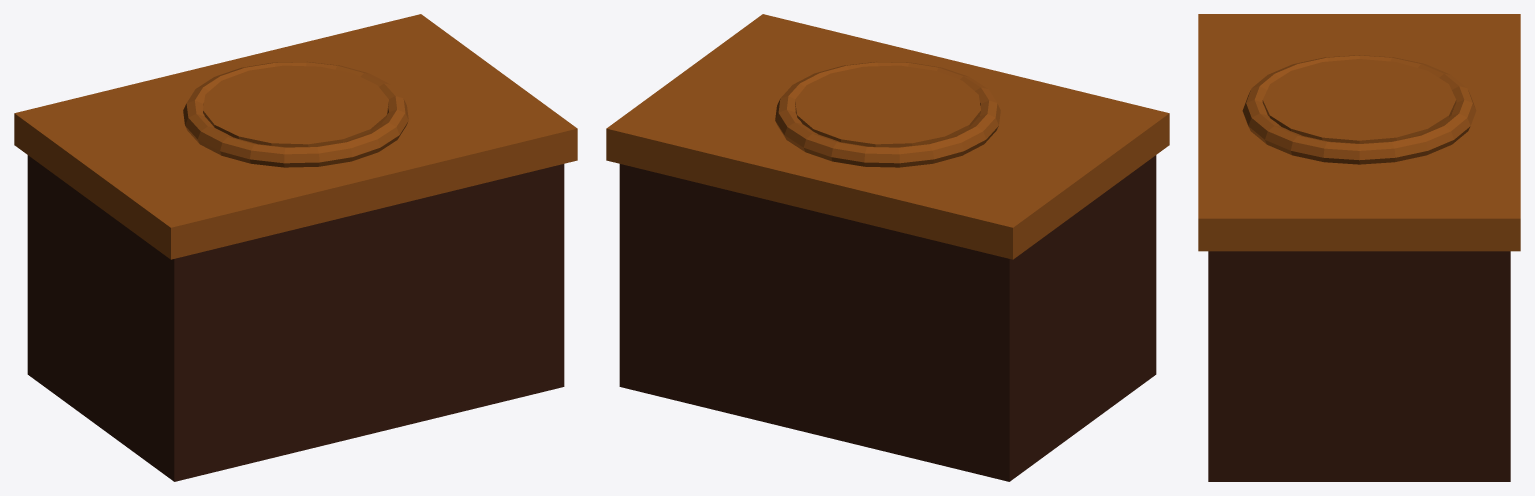
The picture shows the model from 3 angles, left to right: view 1: azimuth 30°, elevation 25°; view 2: azimuth 150°, elevation 25°; view 3: azimuth 270°, elevation 25°; orthographic projection. The views are drawn at different scales.
Visible parts, largest first — view 1: dark_wood, brass; view 2: dark_wood, brass; view 3: brass, dark_wood.
Boxes of the visible parts, x1,y1,x2,y2 form: dark_wood: (27,155,564,481); brass: (14,14,577,259); dark_wood: (619,155,1156,481); brass: (606,14,1169,259); brass: (1198,14,1520,251); dark_wood: (1208,251,1510,481).
Size of the model in its own units: 2.4 by 1.55 by 1.6.
